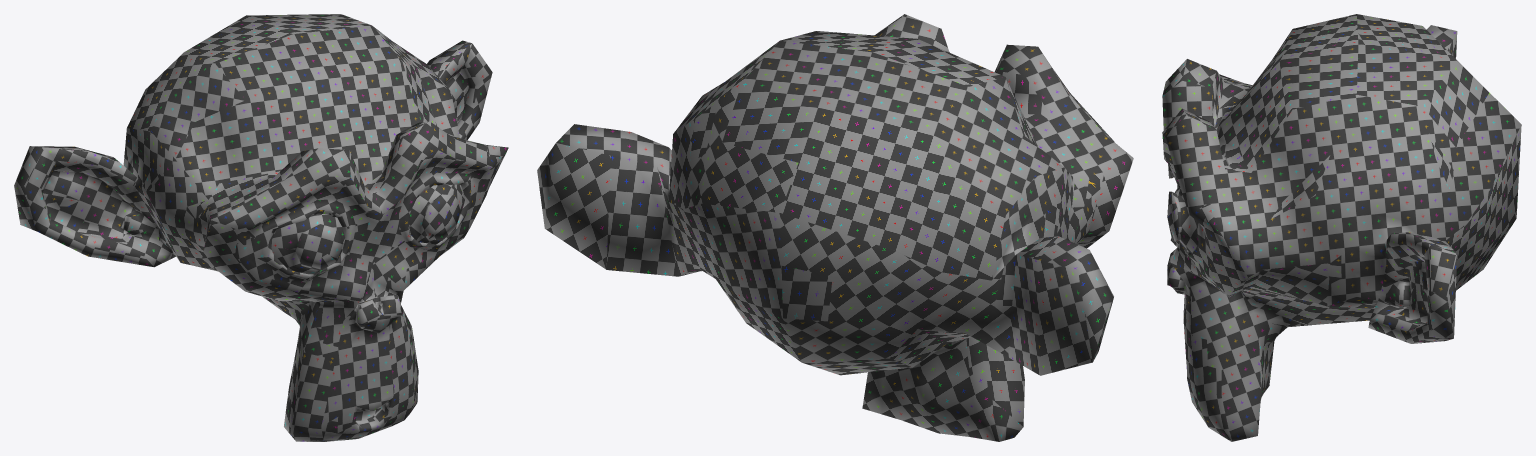
Rendered from suzanne_uv.gltf.
3 views of the same model, side by side, from view 1: azimuth 30°, elevation 25°; view 2: azimuth 150°, elevation 25°; view 3: azimuth 270°, elevation 25° (orthographic). The views are drawn at different scales.
Parts seen in each view (by area): view 1: Suzanne; view 2: Suzanne; view 3: Suzanne.
Boxes of the visible parts, <box> form: Suzanne: <box>14,14,508,441</box>; Suzanne: <box>537,14,1133,441</box>; Suzanne: <box>1162,14,1521,441</box>.
Size of the model in its own units: 2.73 by 1.97 by 1.7.
Materials: 1 (1 with a texture image).
